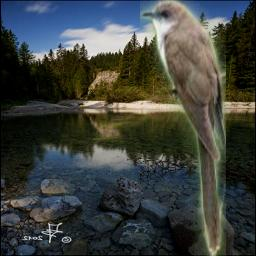Cuckoo: (140, 0, 226, 256)
